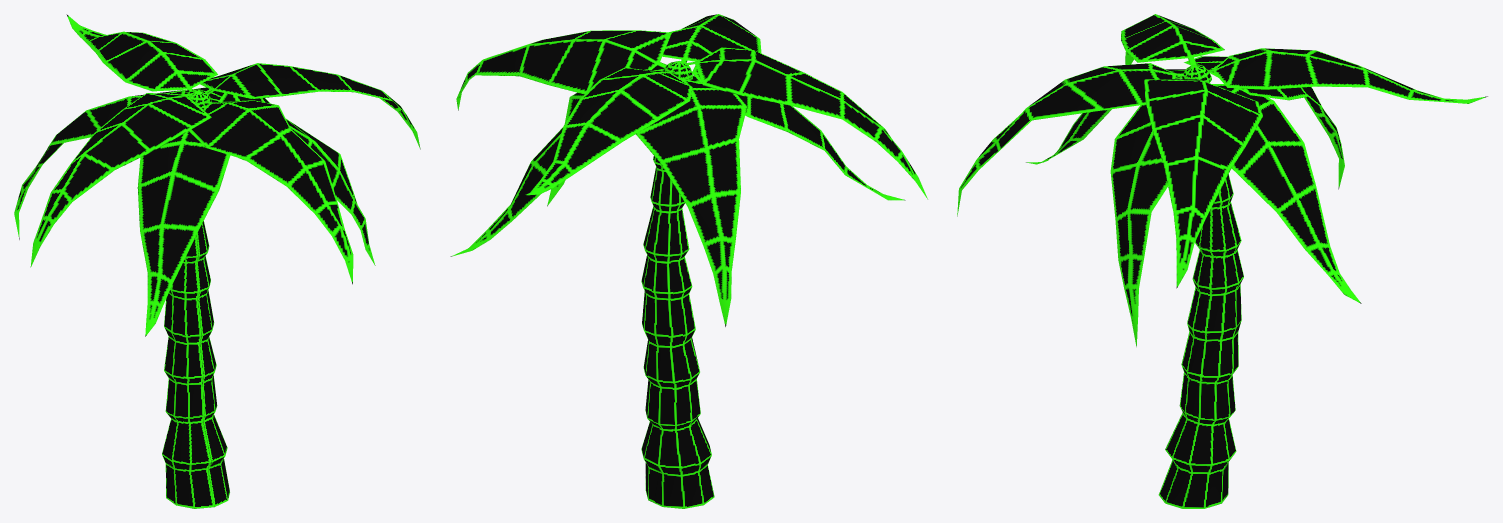
File: palm.glb
3 renders of one model, left to right at view 1: azimuth 30°, elevation 25°; view 2: azimuth 150°, elevation 25°; view 3: azimuth 270°, elevation 25°, orthographic. The views are drawn at different scales.
Size of the model in its own units: 14.57 by 14.02 by 15.22.
2 materials, 2 textured.
